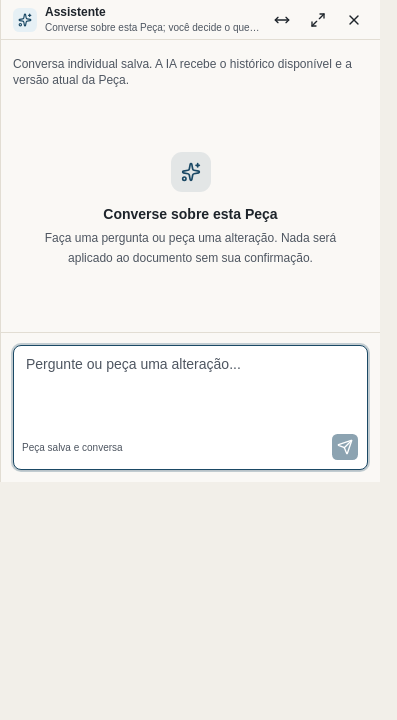
Test case: AssistantPanel › bloqueia aplicação quando a âncora retornada está expirada
This screenshot has width=397, height=720.
Type "Reescreva o parágrafo inicial." into the text box named "O que você quer que a IA faça?". click: (190, 386)
box: [14,346,367,426]
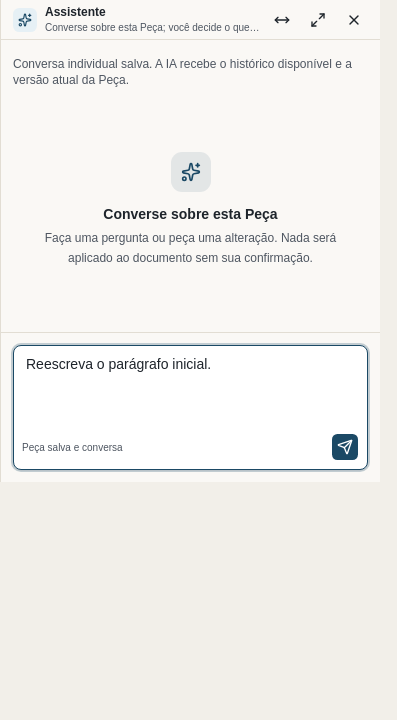
Click the button named "Enviar para IA". click: (345, 447)
box: [331,433,359,461]
(page scrolled)
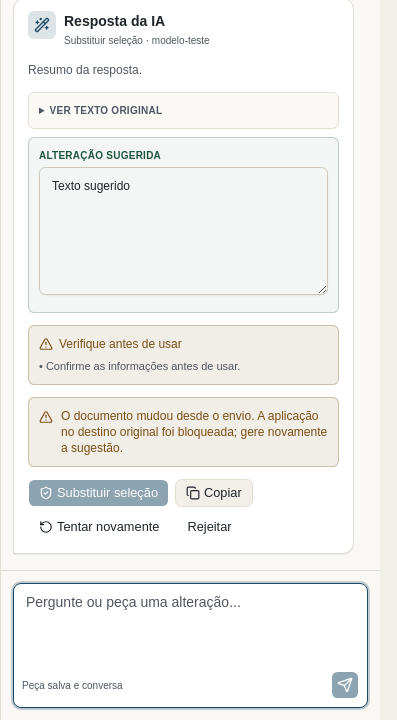
expect the text "O documento mudou desde o envio" is shown: met, box [61,409,327,455]
expect the button "Substituir seleção" is disabled: met, box [28,479,169,507]
